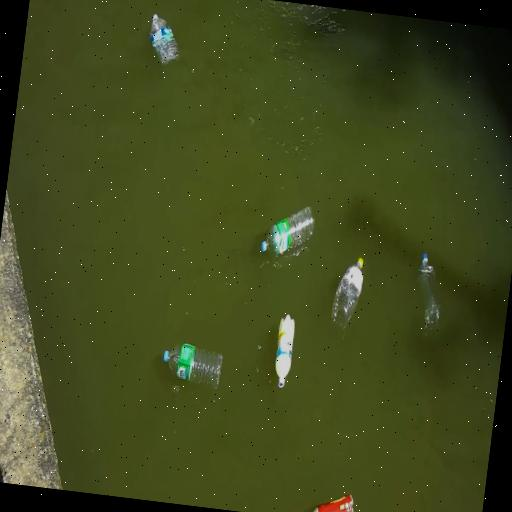plastic: (163, 344, 221, 389), (260, 207, 313, 254), (330, 258, 362, 329), (417, 253, 438, 335), (274, 315, 294, 388), (149, 14, 177, 64), (312, 495, 352, 511)
